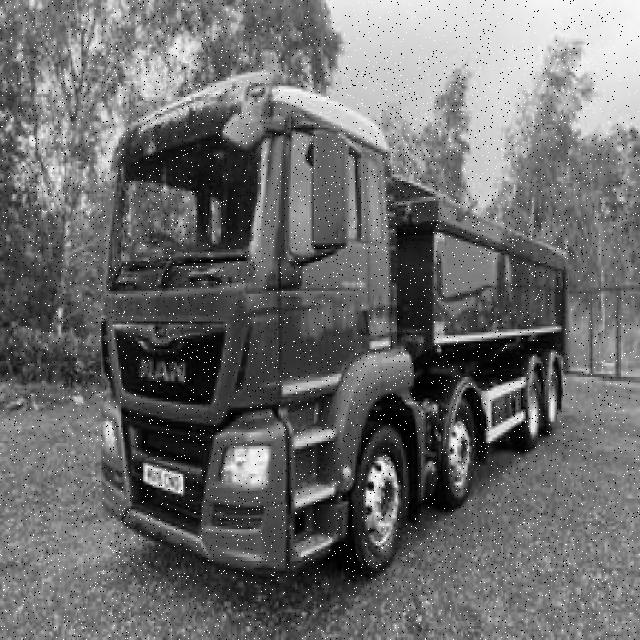Box Truck: (97, 50, 569, 581)
